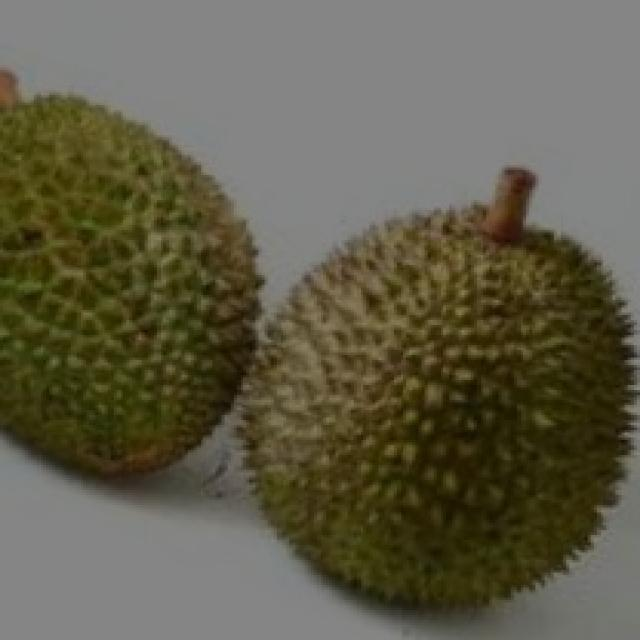fruit: (231, 193, 640, 635), (0, 92, 298, 509)
